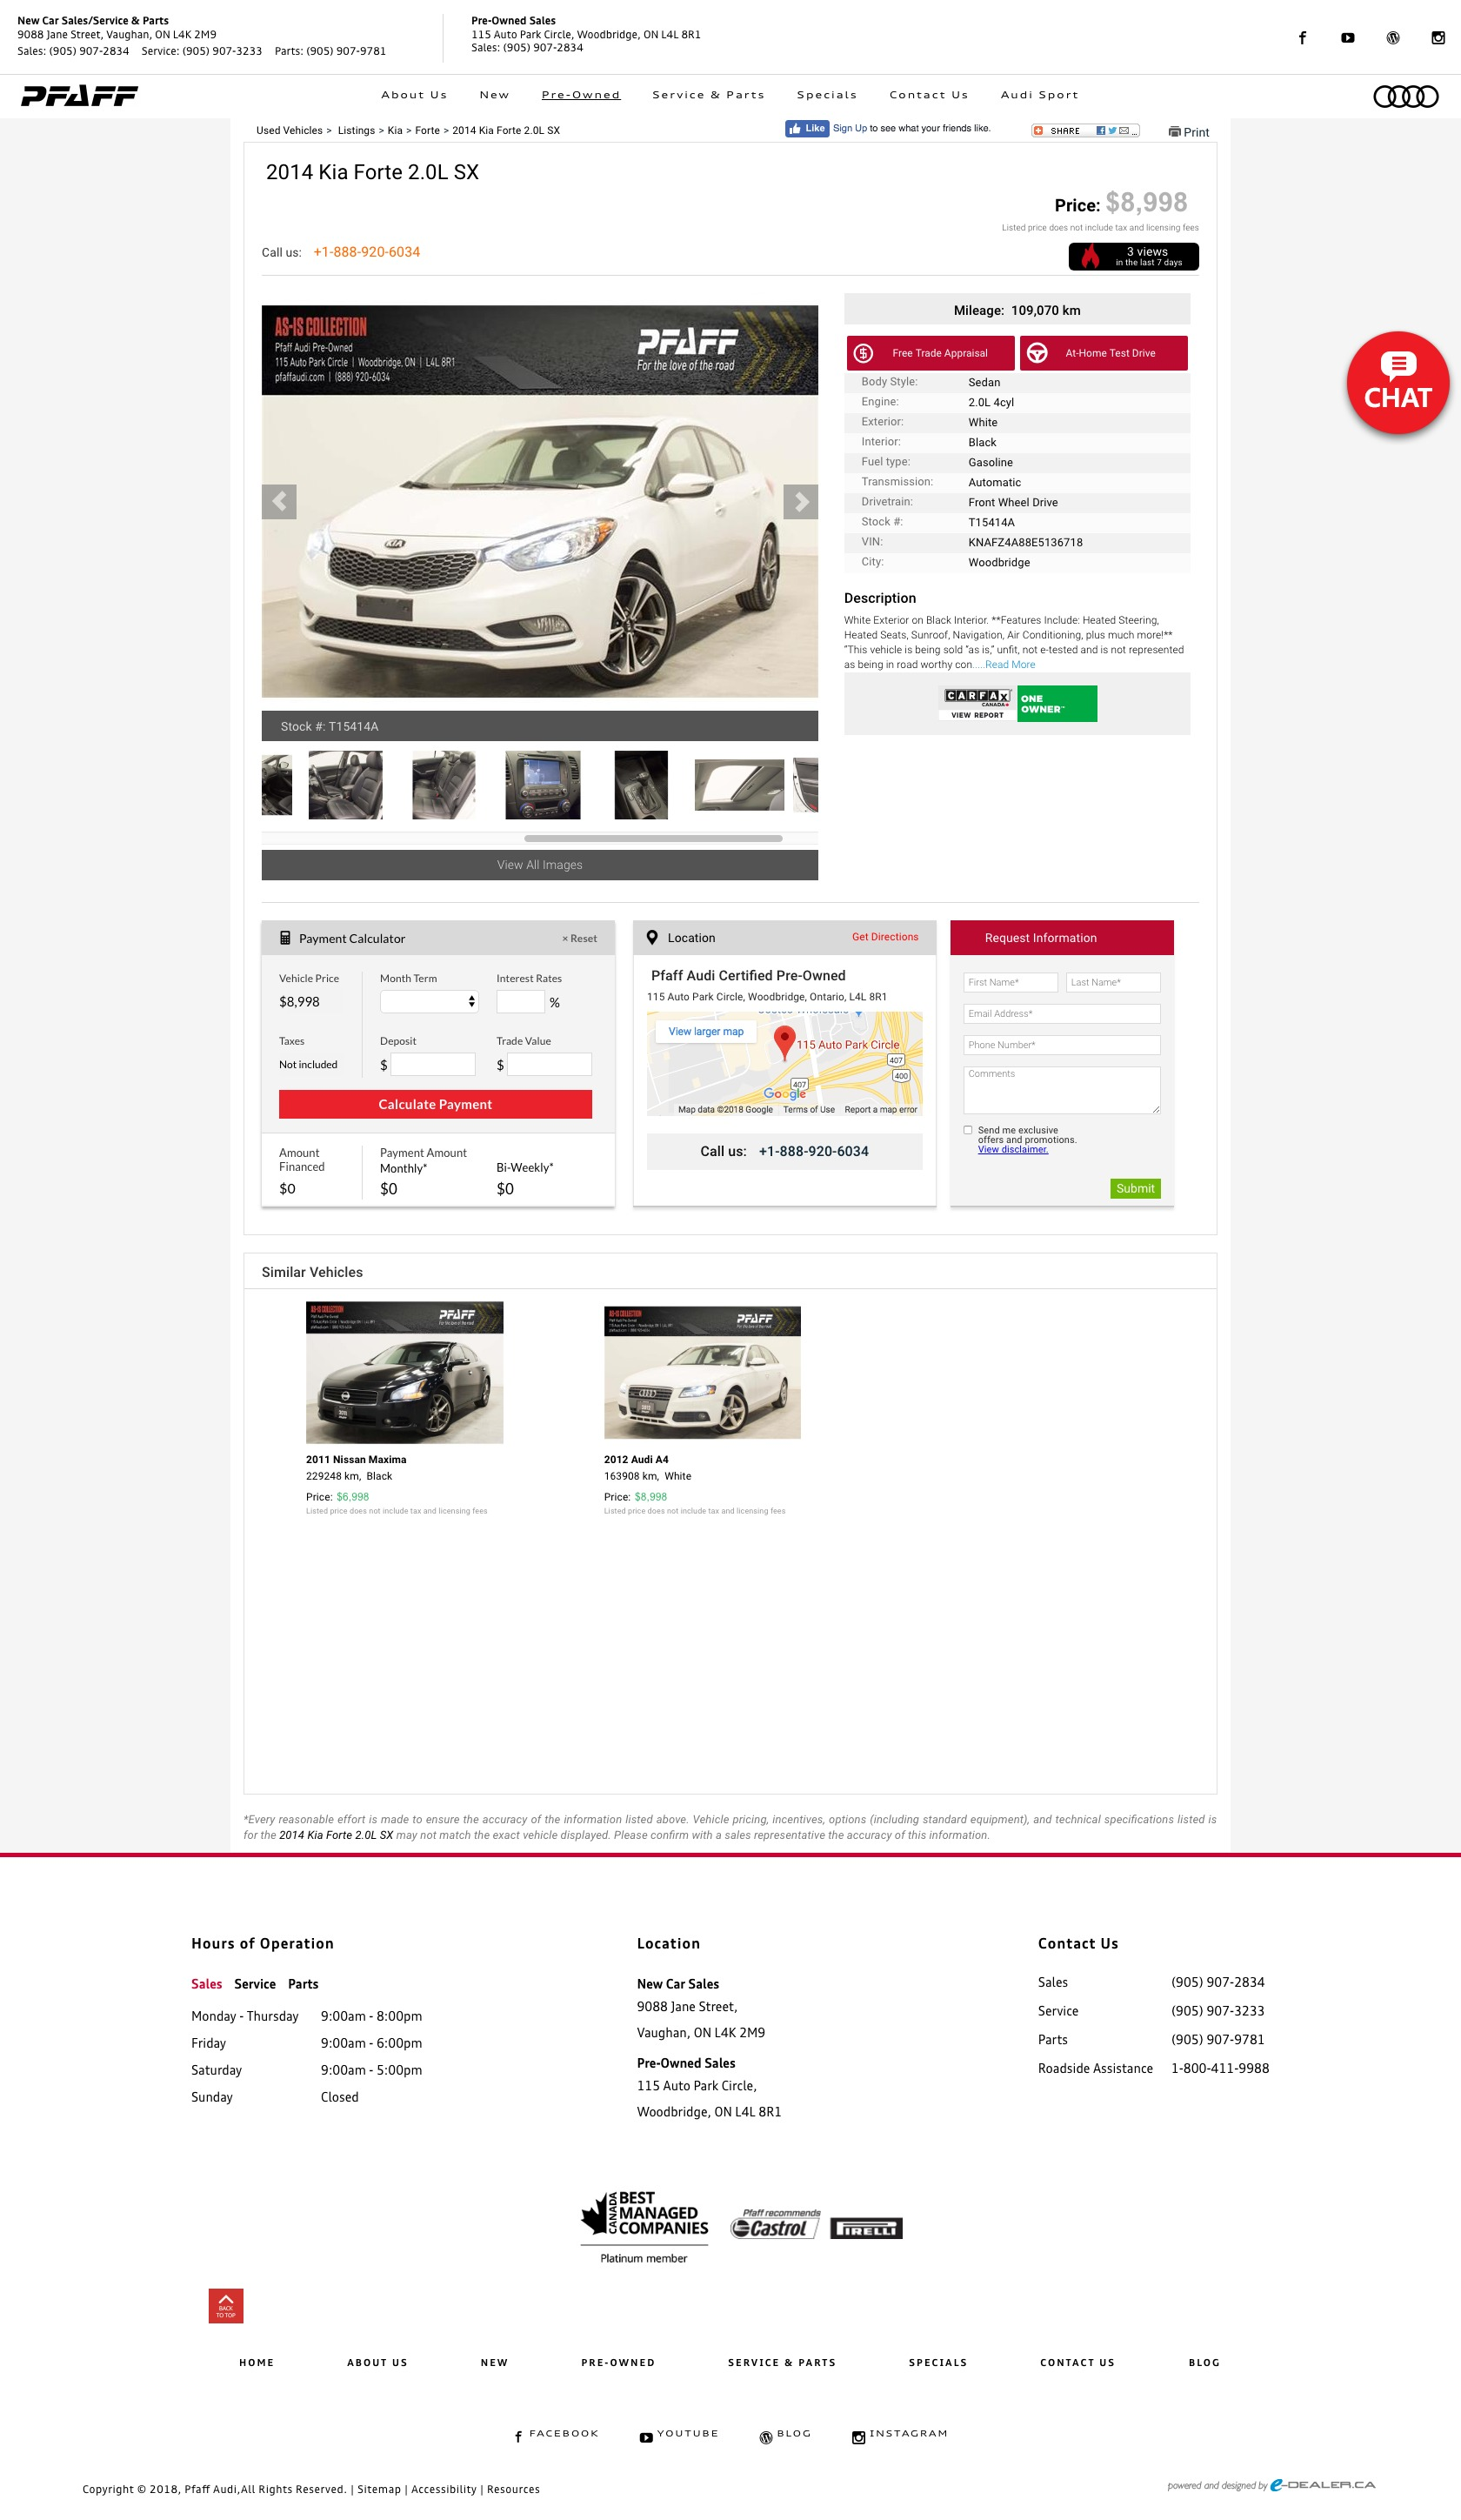car: (795, 492, 811, 513)
